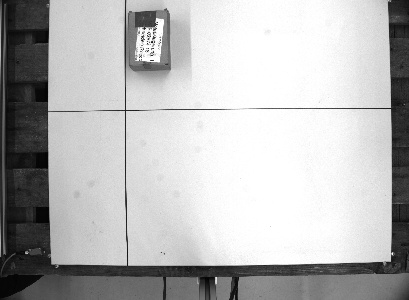b6: (124, 7, 175, 73)
